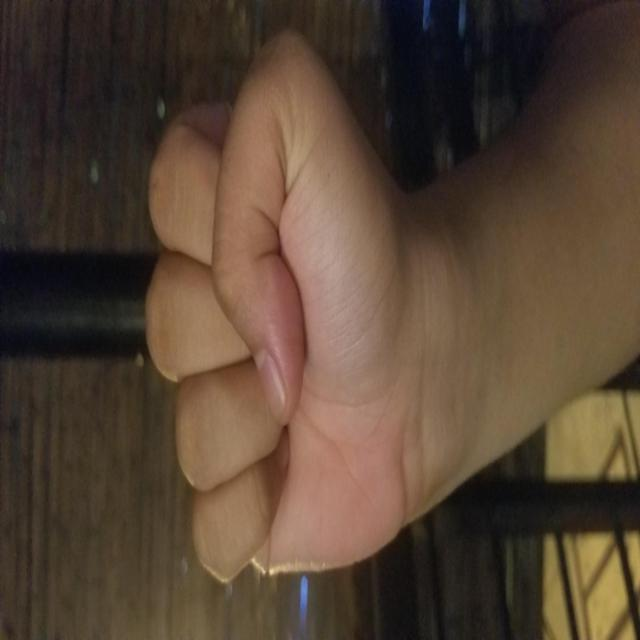S: (59, 142, 613, 415)
